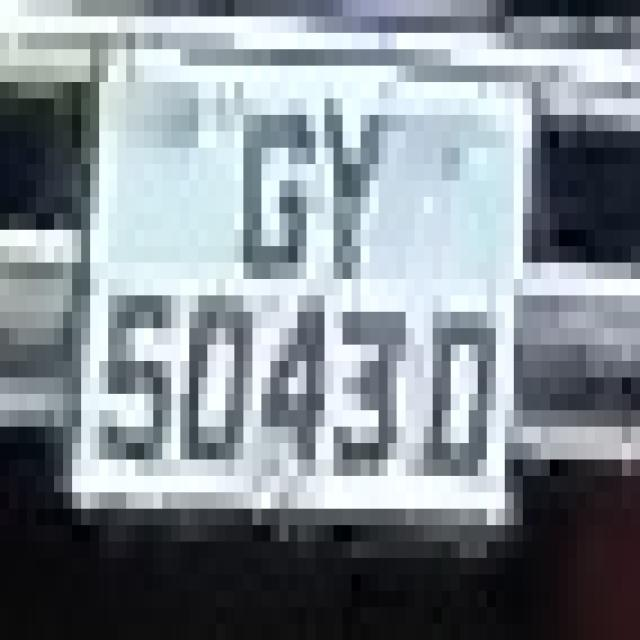0: (180, 246, 252, 476)
3: (316, 279, 414, 476)
4: (252, 246, 334, 509)
5: (81, 263, 180, 492)
D: (406, 279, 496, 509)
G: (216, 82, 334, 328)
Y: (298, 66, 397, 295)
